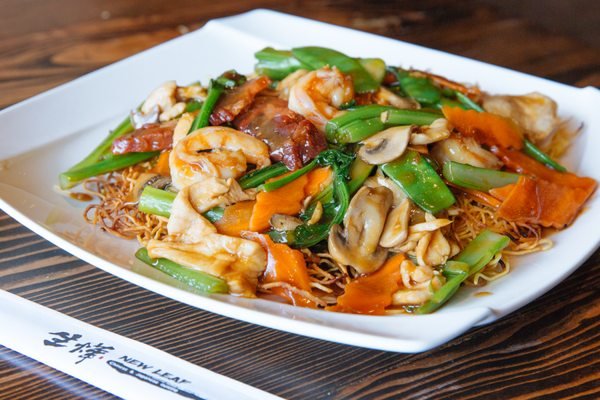sushi: (1, 16, 600, 389)
